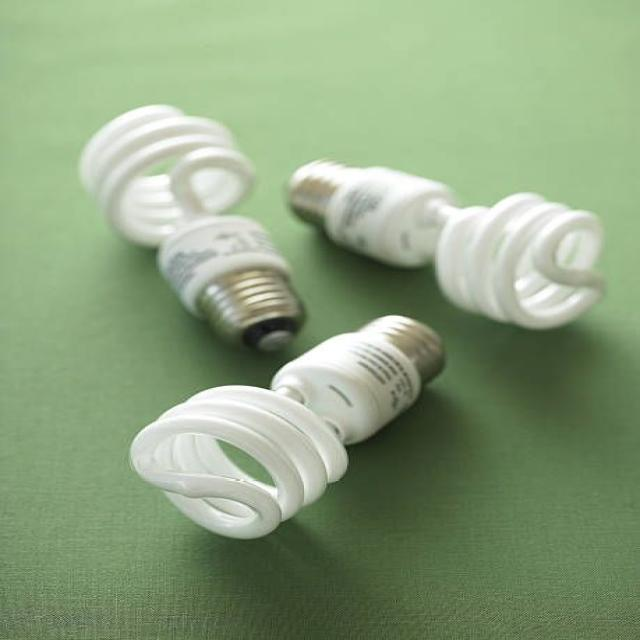electronic: (76, 102, 606, 540), (127, 312, 446, 540), (76, 102, 306, 352), (284, 157, 606, 330), (127, 382, 348, 540), (77, 102, 255, 249), (154, 212, 306, 354)
